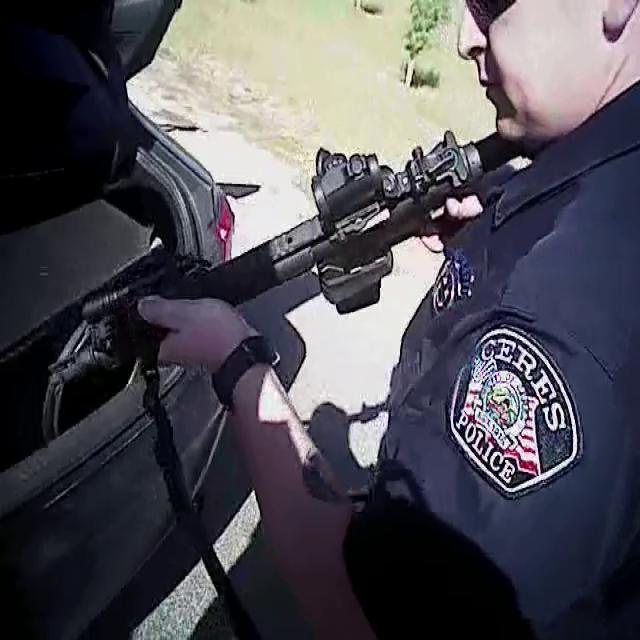gun: (28, 120, 546, 441)
